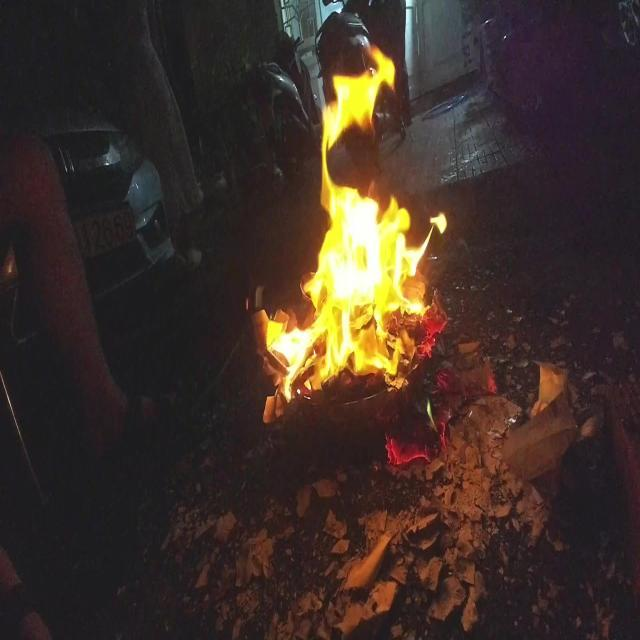Fire: (266, 46, 446, 407), (425, 401, 442, 434)
